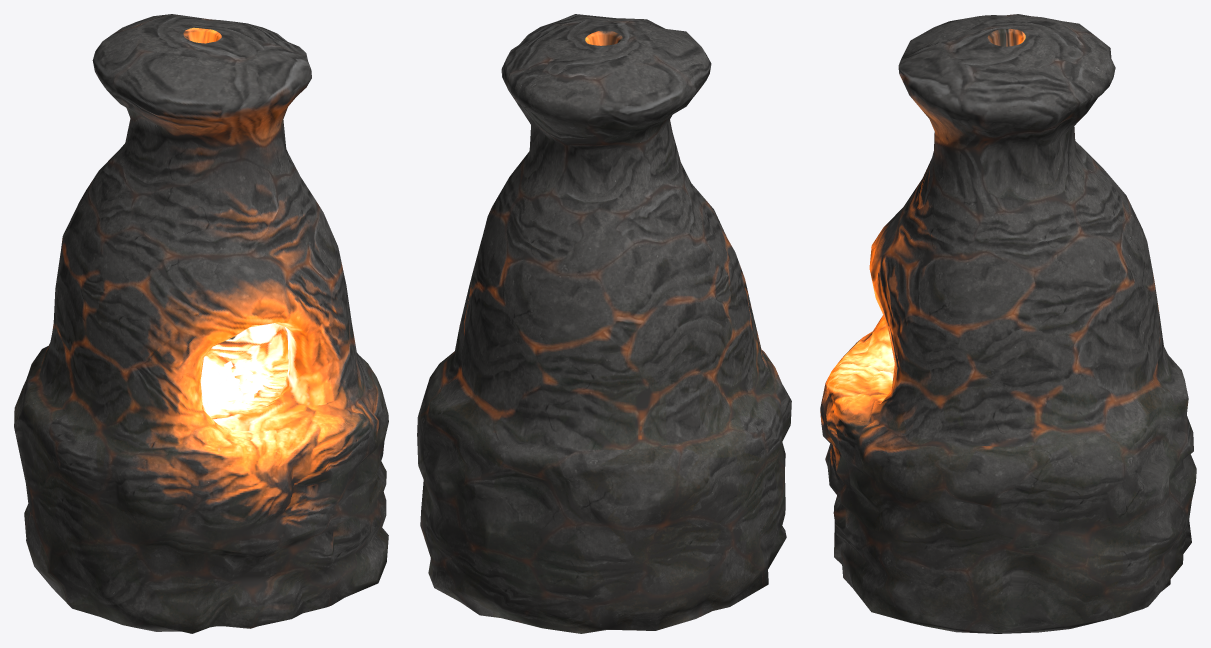
Rendered from furnace.glb.
The picture shows the model from 3 angles, left to right: view 1: azimuth 30°, elevation 25°; view 2: azimuth 150°, elevation 25°; view 3: azimuth 270°, elevation 25°; orthographic projection.
Visible parts, largest first — view 1: Object_2; view 2: Object_2; view 3: Object_2.
Part boxes in pixels (<box>): Object_2: <box>14,14,388,633</box>; Object_2: <box>417,14,791,633</box>; Object_2: <box>820,14,1196,633</box>.
Bounding box in the file's own units: 9.96 × 16 × 10.35.
1 material, 1 textured.
